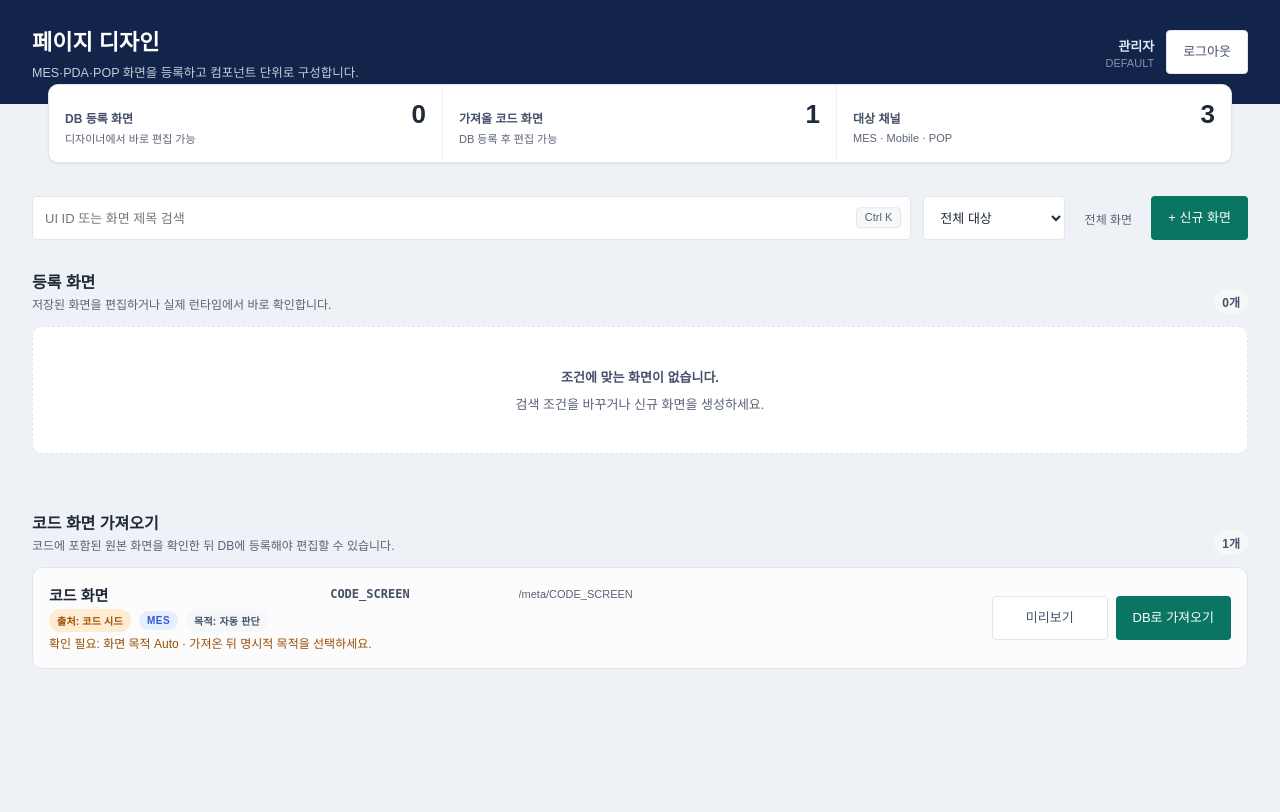
DesignerHome › 코드 시드와 같은 UI ID의 빈 신규 화면 생성을 막는다
expect the heading "코드 화면" is shown: met, box [49,587,108,604]
Step 1. Click the button "+ 신규 화면" → click(1200, 218), box [1151,196,1248,240]
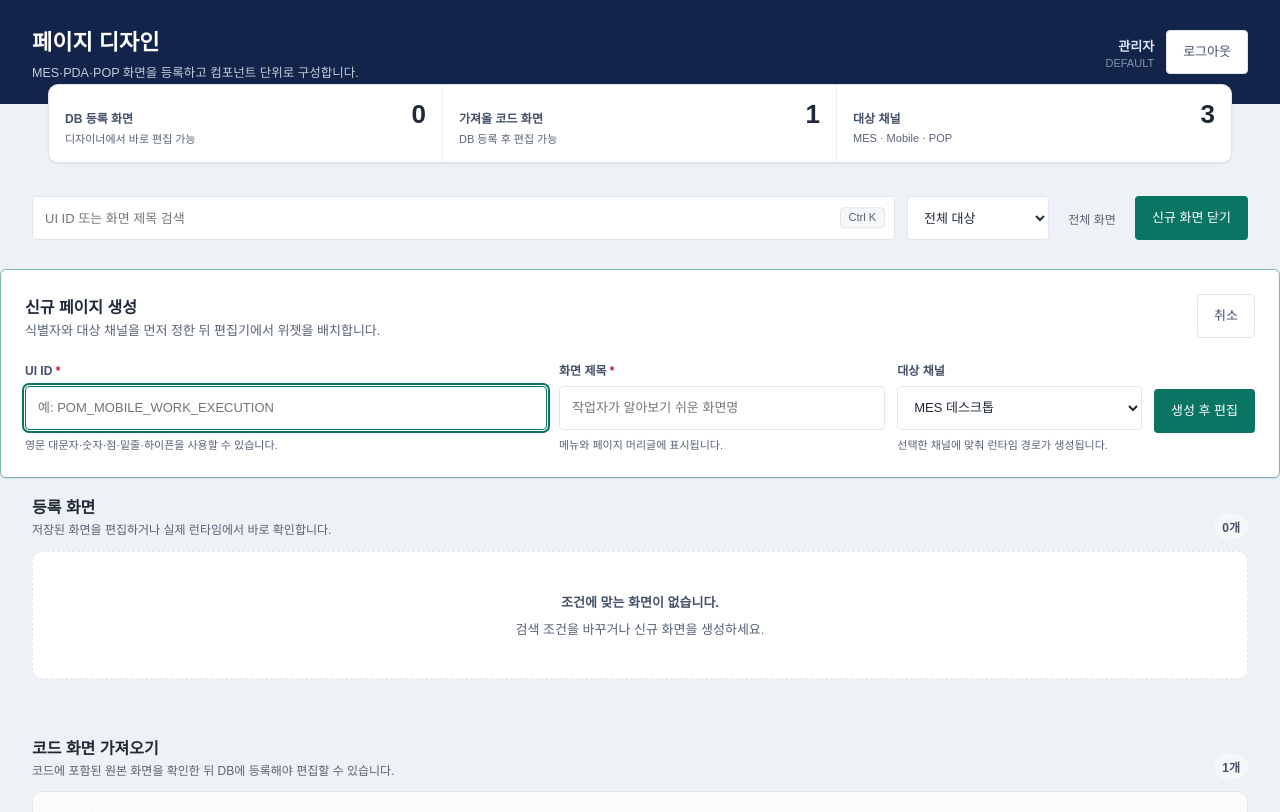
Step 2. Type "CODE_SCREEN" into the field labelled "UI ID" → (286, 408), box [25,386,547,430]
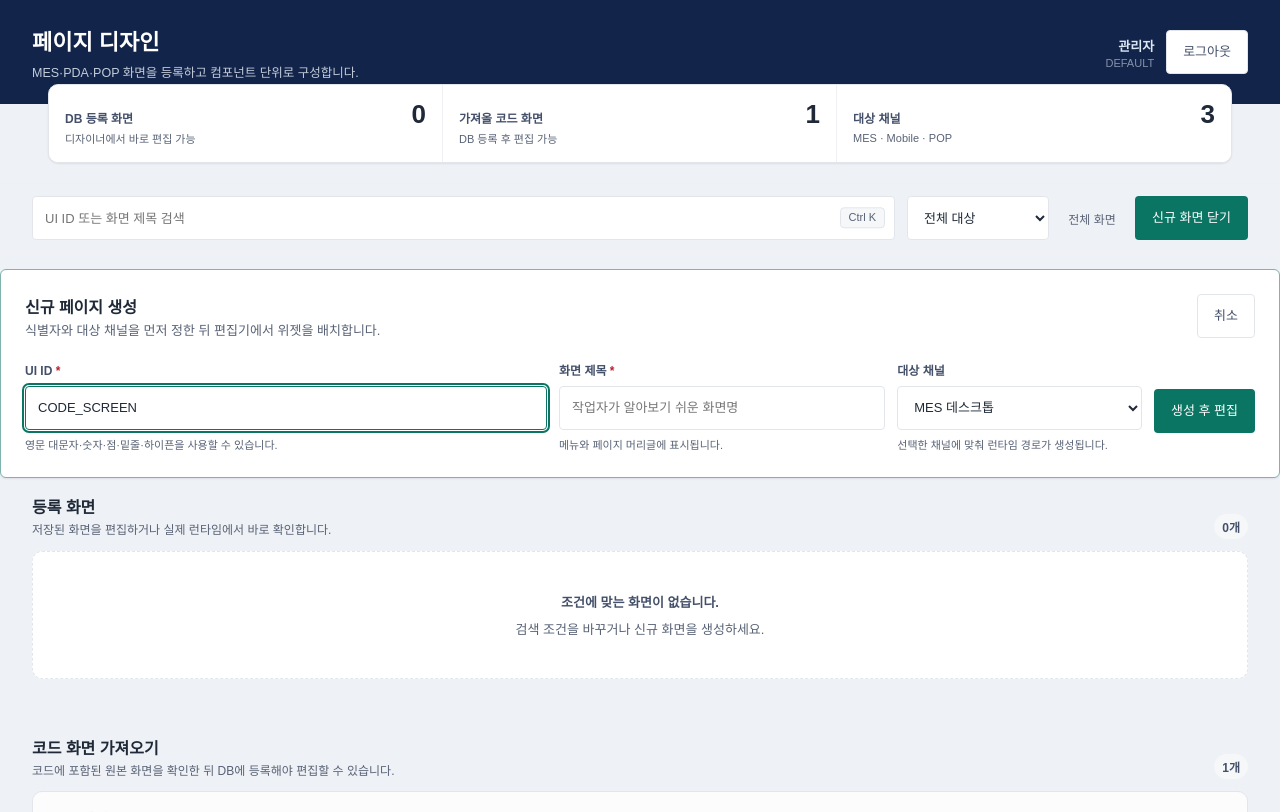
Step 3. Type "잘못된 빈 화면" into the field labelled "화면 제목" → (722, 408), box [559,386,885,430]
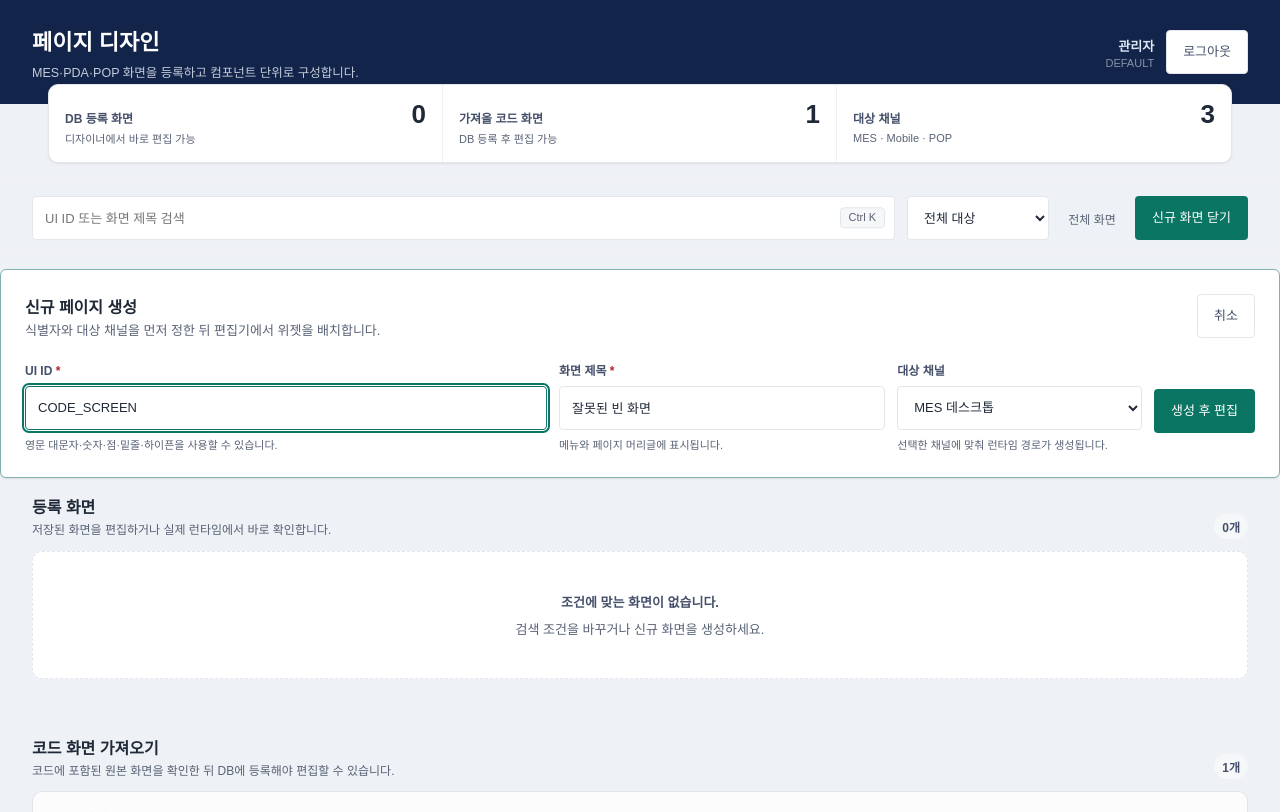
Step 4. Click the button "생성 후 편집" → click(1204, 411), box [1154,389,1255,433]
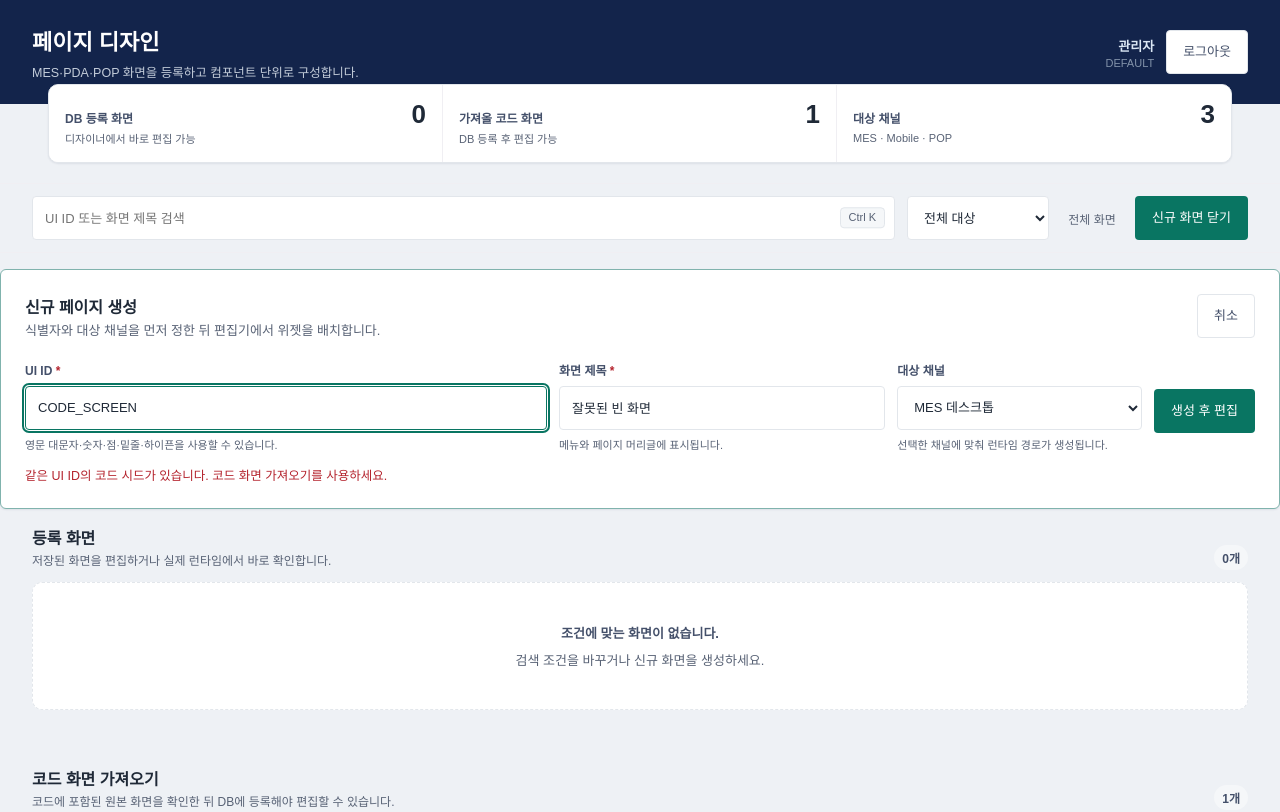
expect the message shows "코드 화면 가져오기를 사용하세요.": met, box [25,469,387,483]
